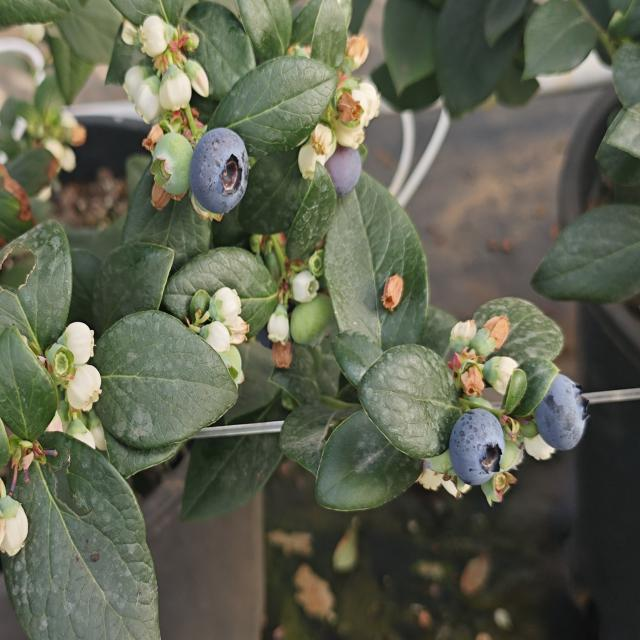ripe: (188, 125, 252, 219), (447, 406, 508, 489), (532, 371, 590, 455), (322, 142, 364, 200)
